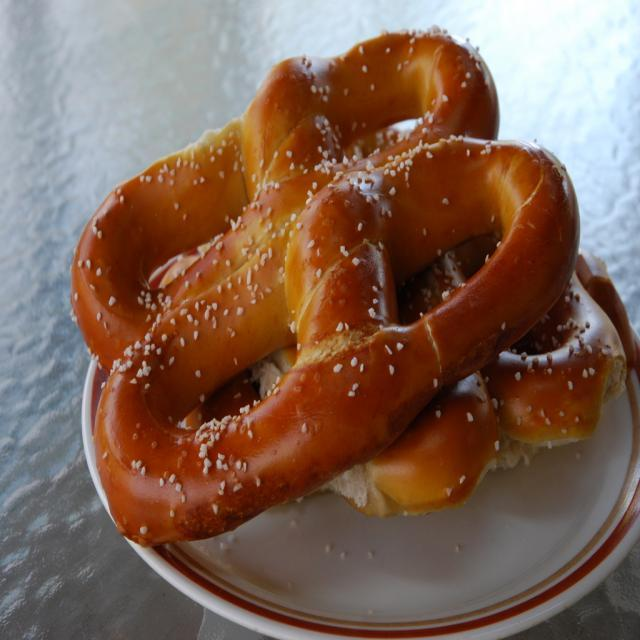Bagel: (68, 20, 581, 552), (162, 122, 636, 524)
